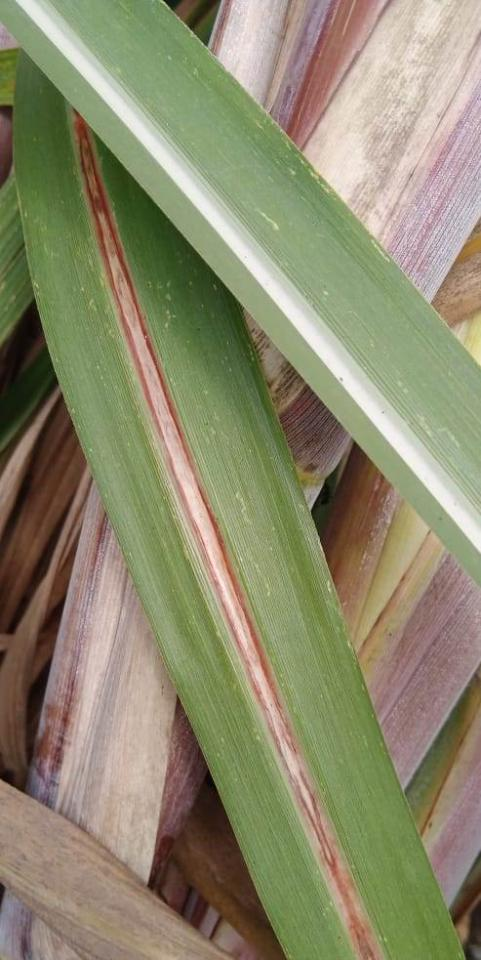RedRot: (71, 107, 387, 959)
